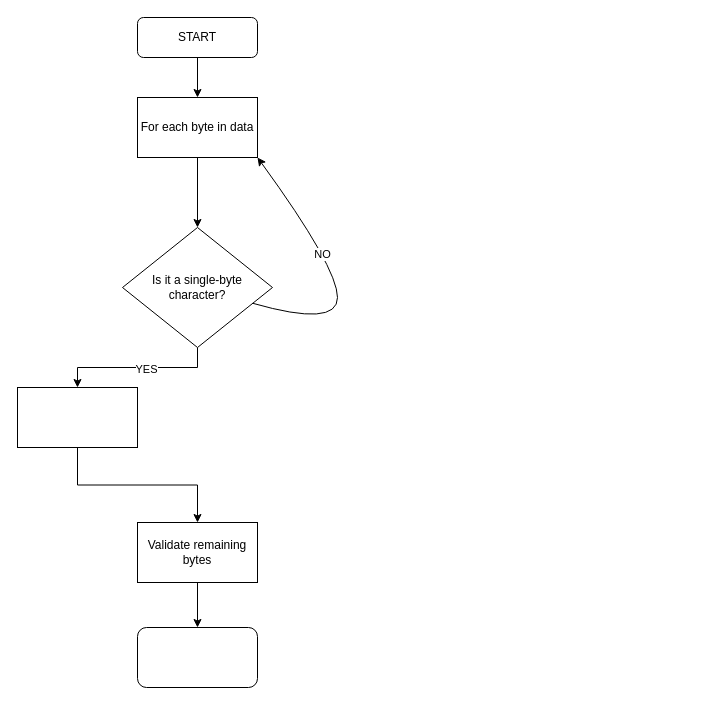
Some shapes in this 725 by 705 pixel diagram are drawn without their labels. Here are the shapes that lost their labels. From the top down, the centre of each, then its label:
At [77,417]: "Determine length of character".
At [197,657]: "END".
